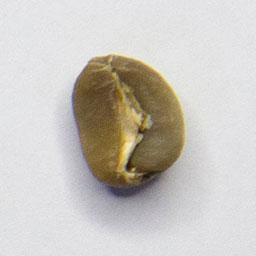premium: (68, 50, 188, 196)
